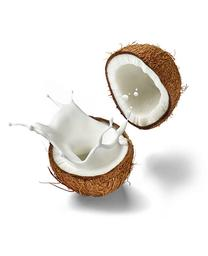coconut: (48, 115, 134, 197), (105, 43, 182, 130)
